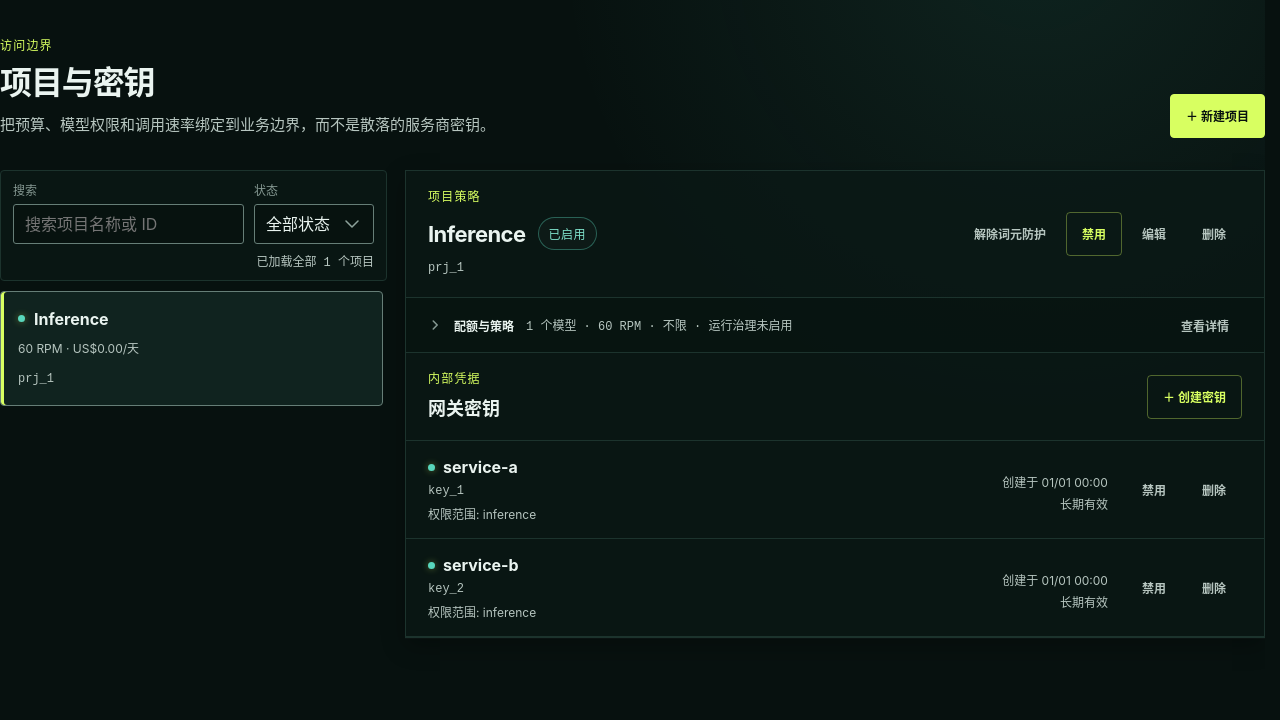
Test: projects page › states how many gateway keys a project disable takes down
The width and height of the screenshot is (1280, 720).
Expected: the text "service-b" is shown, left=443, top=556, right=519, bottom=576
Click the button "禁用" in the row of "已启用": (1094, 234) left=1066, top=212, right=1122, bottom=256
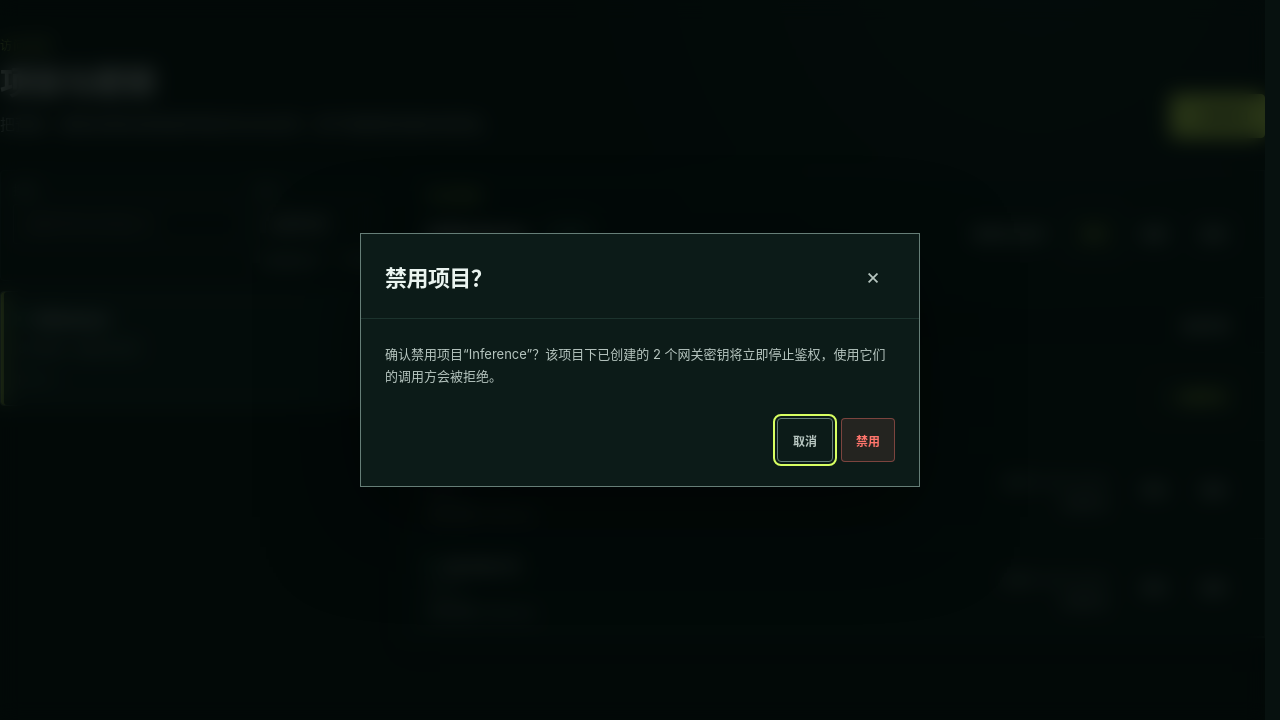
Result: the text "确认禁用项目“Inference”？该项目下已创建的 2 个网关密钥将立即停止鉴权，使用它们的调用方会被拒绝。" is shown at left=385, top=343, right=895, bottom=387
